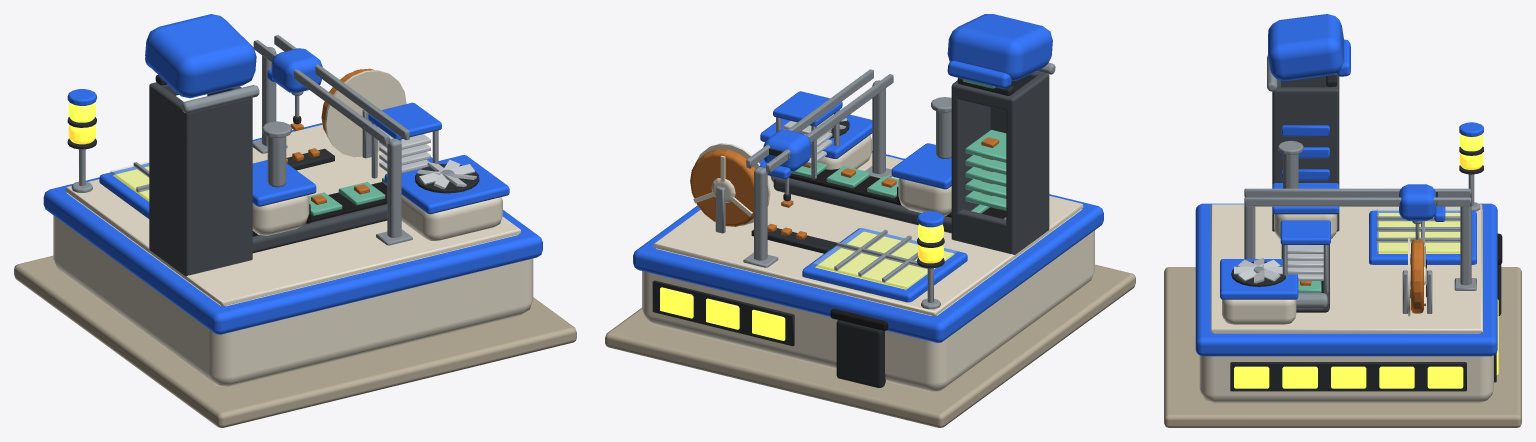
Rendered from electronics_plant.glb.
The picture shows the model from 3 angles, left to right: view 1: azimuth 30°, elevation 25°; view 2: azimuth 150°, elevation 25°; view 3: azimuth 270°, elevation 25°; orthographic projection. The views are drawn at different scales.
Visible parts, largest first — view 1: stage_1__M_CreamPlastic, stage_0__M_SugarPad, stage_2__M_Team, stage_2__M_CreamPlastic, stage_3__M_SmokePlastic, stage_2__M_SpringSteel, head__M_Team, reel__M_CreamPlastic, stage_2__M_SmokePlastic, gantry__M_Team, blanks__M_Foil, stage_2__M_Dark (+6 smaller); view 2: stage_2__M_Team, stage_0__M_SugarPad, stage_1__M_CreamPlastic, stage_2__M_CreamPlastic, stage_3__M_SmokePlastic, stage_2__M_SpringSteel, head__M_Team, panes__M_E_Acid, stage_1__M_Dark, stage_2__M_FrostGlass, winding__M_Ore_Copper, stage_2__M_SmokePlastic (+7 smaller); view 3: stage_2__M_CreamPlastic, stage_2__M_Team, stage_0__M_SugarPad, stage_2__M_SpringSteel, stage_1__M_CreamPlastic, panes__M_E_Acid, stage_3__M_SmokePlastic, head__M_Team, stage_1__M_Dark, stage_2__M_FrostGlass, stage_3__M_Team, gantry__M_Team (+7 smaller).
Boxes of the visible parts, x1,y1,x2,y2 form: stage_1__M_CreamPlastic: (53,193,533,386); stage_0__M_SugarPad: (14,256,576,427); stage_2__M_Team: (43,102,542,334); stage_2__M_CreamPlastic: (65,124,520,306); stage_3__M_SmokePlastic: (149,82,252,276); stage_2__M_SpringSteel: (133,35,438,245); head__M_Team: (145,14,256,98); reel__M_CreamPlastic: (324,69,406,157); stage_2__M_SmokePlastic: (252,204,387,253); gantry__M_Team: (267,48,322,93); blanks__M_Foil: (379,130,430,173); stage_2__M_Dark: (286,148,479,193); stage_2__M_Team: (633,91,1103,342); stage_0__M_SugarPad: (605,264,1135,427); stage_1__M_CreamPlastic: (642,209,1094,392); stage_2__M_CreamPlastic: (653,135,1083,316); stage_3__M_SmokePlastic: (951,71,1049,254); stage_2__M_SpringSteel: (715,69,1006,282); head__M_Team: (947,14,1052,88); panes__M_E_Acid: (660,231,954,340); stage_1__M_Dark: (652,280,885,387); stage_2__M_FrostGlass: (812,227,956,288); winding__M_Ore_Copper: (690,149,755,226); stage_2__M_SmokePlastic: (773,178,951,233); stage_2__M_CreamPlastic: (1210,204,1482,333); stage_2__M_Team: (1195,183,1497,356); stage_0__M_SugarPad: (1164,267,1521,427); stage_2__M_SpringSteel: (1244,140,1476,313); stage_1__M_CreamPlastic: (1199,209,1493,403); panes__M_E_Acid: (1234,213,1498,388); stage_3__M_SmokePlastic: (1272,75,1339,231); head__M_Team: (1268,14,1350,81); stage_1__M_Dark: (1230,264,1501,391); stage_2__M_FrostGlass: (1377,209,1459,253); stage_3__M_Team: (1281,122,1483,180); gantry__M_Team: (1399,184,1445,221).
Size of the model in its own units: 1.92 by 1.65 by 1.92.
